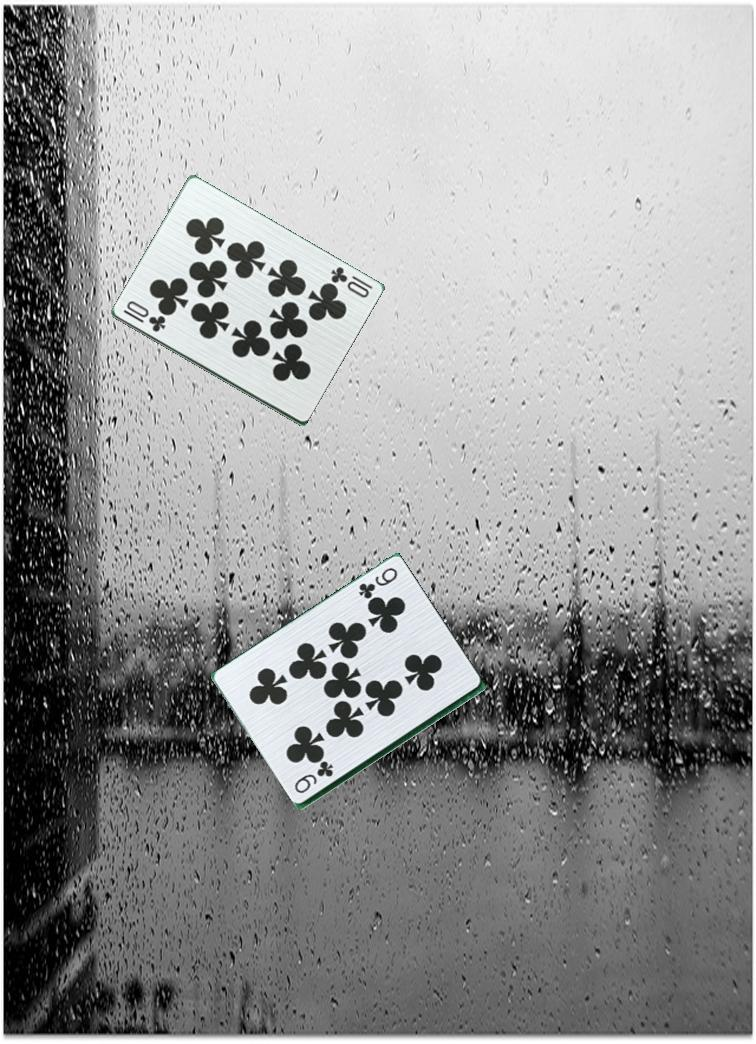9c: (353, 564, 401, 606), (291, 760, 336, 797)
tc: (119, 295, 174, 335), (326, 263, 375, 301)
